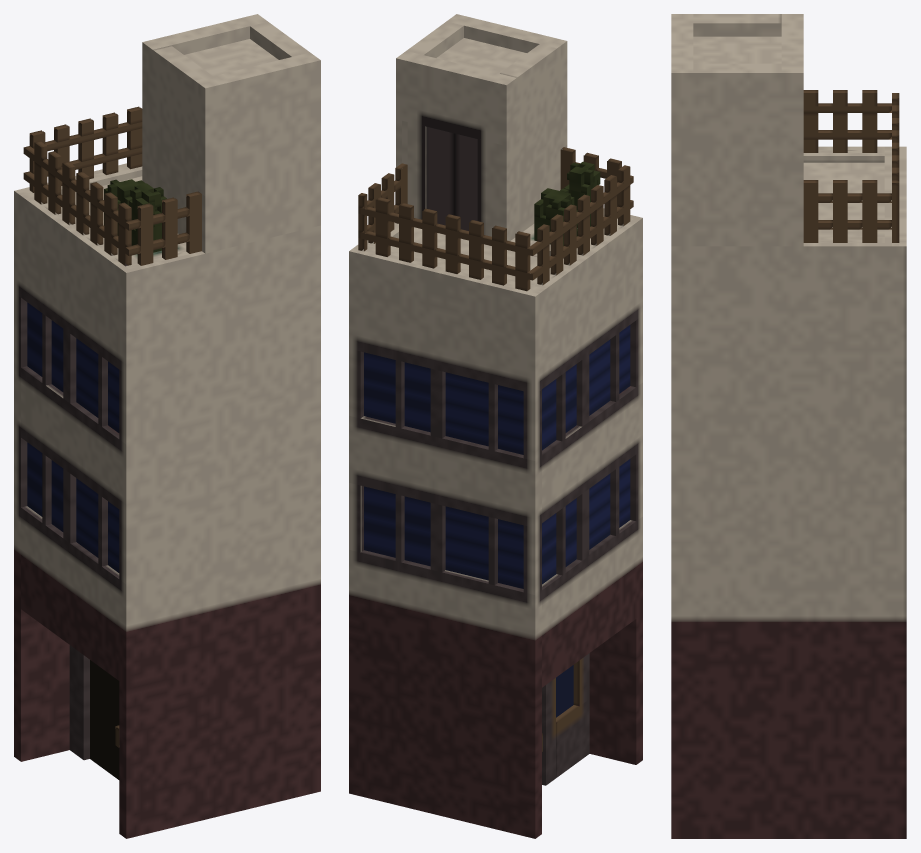
The picture shows the model from 3 angles, left to right: view 1: azimuth 30°, elevation 25°; view 2: azimuth 150°, elevation 25°; view 3: azimuth 270°, elevation 25°; orthographic projection. The views are drawn at different scales.
Parts seen in each view (by area): view 1: Content; view 2: Content; view 3: Content.
Boxes of the visible parts, x1,y1,x2,y2 form: Content: [14, 14, 320, 838]; Content: [349, 14, 642, 838]; Content: [671, 14, 906, 838].
Bounding box in the file's own units: 32 × 115 × 32.
Materials: 1 (1 with a texture image).
